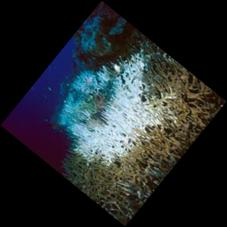bleached_corals: (39, 19, 226, 206)
